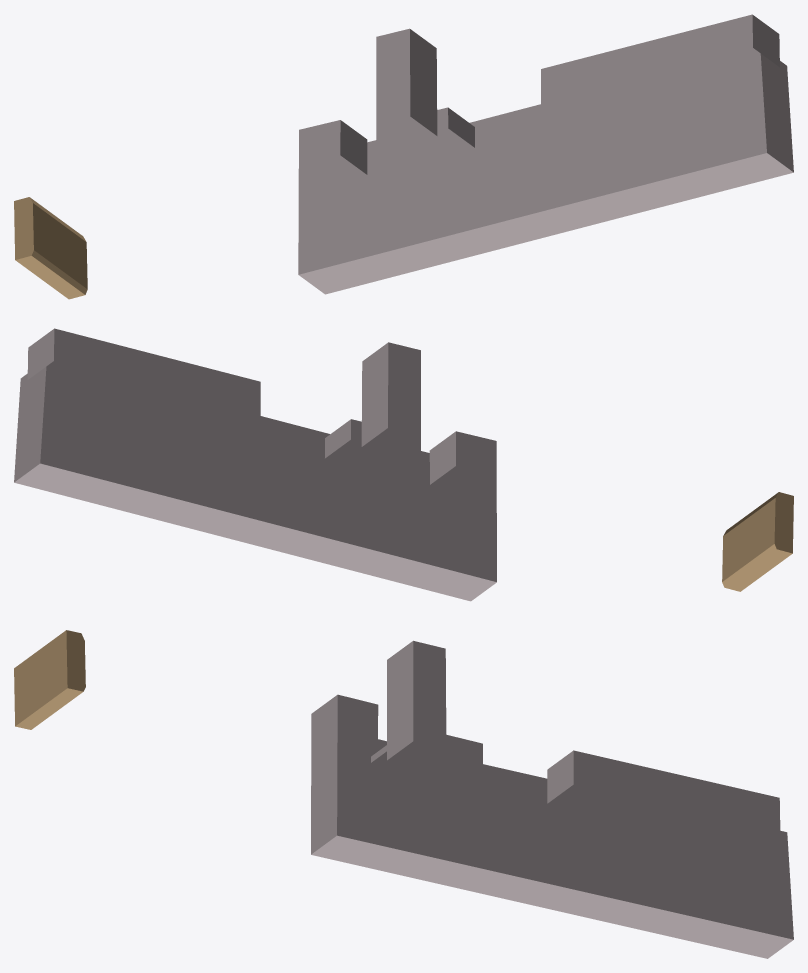
3 renders of one model, top to bottom at view 1: azimuth 30°, elevation 25°; view 2: azimuth 150°, elevation 25°; view 3: azimuth 330°, elevation 25°, orthographic. The views are drawn at different scales.
Visible parts, largest first — view 1: 0_0_2_0_1_0_0; view 2: 0_0_2_0_1_0_0; view 3: 0_0_2_0_1_0_0.
Part boxes in pixels (x1=…): 0_0_2_0_1_0_0: x1=14, y1=14, x2=793, y2=299; 0_0_2_0_1_0_0: x1=14, y1=328, x2=793, y2=601; 0_0_2_0_1_0_0: x1=14, y1=630, x2=793, y2=958.
Size of the model in its own units: 193 by 53.9 by 24.
